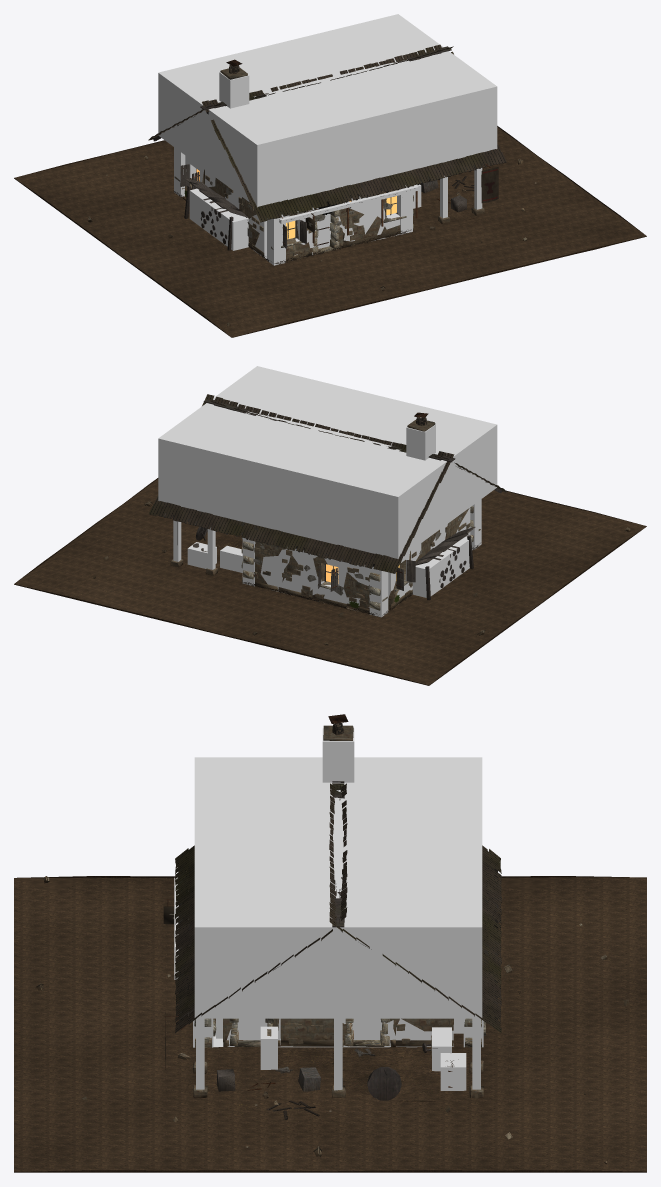
Rendered from bld_forge_wolchen_v2_shared_tex.glb.
3 renders of one model, top to bottom at view 1: azimuth 30°, elevation 25°; view 2: azimuth 150°, elevation 25°; view 3: azimuth 270°, elevation 25°, orthographic. The views are drawn at different scales.
Parts seen in each view (by area): view 1: ground_mud, col_roof, roof_shingle_shingles, lite_merge_02, col_woodpile, lite_merge_19, col_chimney, col_corner, yard_clutter, lite_merge_15, col_wall, cloth_banner_anvil (+1 smaller); view 2: ground_mud, col_roof, roof_shingle_shingles, lite_merge_09, col_woodpile, lite_merge_19, col_wall.002, col_chimney, lite_merge_02, lite_merge_01, col_corner.001, yard_clutter (+4 smaller); view 3: ground_mud, col_roof, roof_shingle_shingles, ground_bay_mud, lite_merge_20, lite_merge_01, col_chimney, lite_merge_19, lite_merge_02, col_bay_barrels, lite_merge_18, col_grindstone (+6 smaller).
Part boxes in pixels (x1,y1,x2,y2): ground_mud: (14, 126, 646, 337); col_roof: (158, 14, 497, 207); roof_shingle_shingles: (148, 44, 506, 222); lite_merge_02: (87, 67, 536, 326); col_woodpile: (189, 188, 248, 250); lite_merge_19: (184, 46, 451, 250); col_chimney: (219, 72, 249, 108); col_corner: (267, 214, 285, 265); yard_clutter: (184, 176, 474, 217); lite_merge_15: (271, 210, 339, 254); col_wall: (343, 196, 377, 241); cloth_banner_anvil: (481, 167, 498, 203); ground_mud: (14, 478, 646, 685); col_roof: (158, 366, 497, 558); roof_shingle_shingles: (148, 394, 507, 573); lite_merge_09: (278, 536, 430, 613); col_woodpile: (412, 536, 471, 597); lite_merge_19: (196, 399, 473, 600); col_wall.002: (278, 547, 312, 592); col_chimney: (406, 424, 435, 460); lite_merge_02: (37, 419, 630, 650); lite_merge_01: (170, 529, 278, 591); col_corner.001: (369, 566, 388, 617); yard_clutter: (415, 527, 475, 565); ground_mud: (14, 876, 646, 1172); col_roof: (194, 757, 482, 1018); roof_shingle_shingles: (175, 783, 501, 1033); ground_bay_mud: (188, 1047, 469, 1101); lite_merge_20: (223, 1018, 333, 1046); lite_merge_01: (193, 1018, 483, 1098); col_chimney: (322, 728, 354, 782); lite_merge_19: (332, 781, 401, 1100); lite_merge_02: (36, 725, 629, 1163); col_bay_barrels: (440, 1053, 466, 1090); lite_merge_18: (345, 1018, 485, 1047); col_grindstone: (260, 1026, 277, 1069).
Bounding box in the file's own units: 24.2 × 9.3 × 22.
21 materials, 15 textured.
